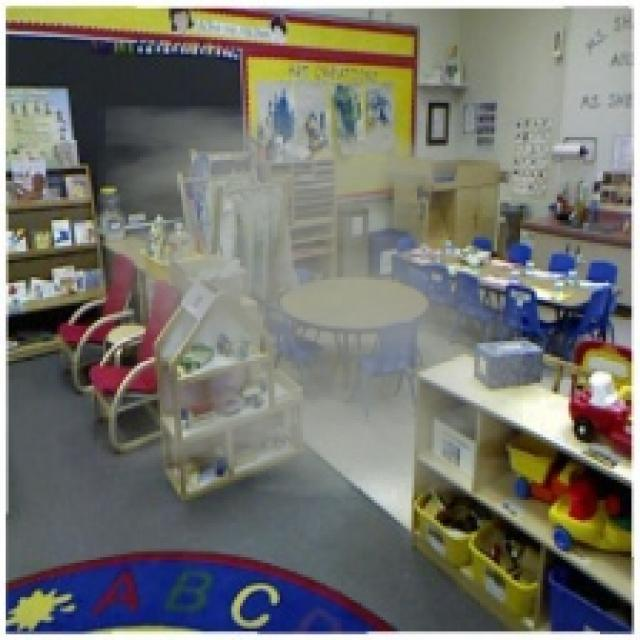Smoke: (97, 106, 523, 497)
